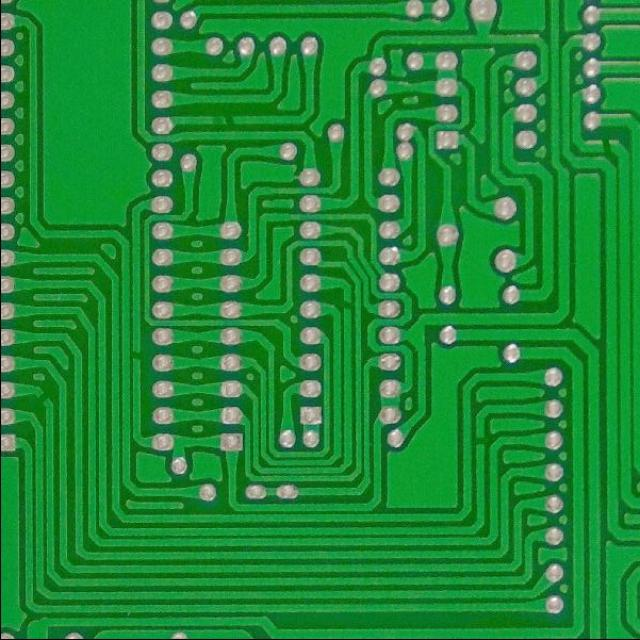Open_Circuit: (207, 109, 245, 130), (32, 383, 53, 408), (470, 429, 492, 452), (338, 295, 357, 316), (128, 344, 145, 366)
